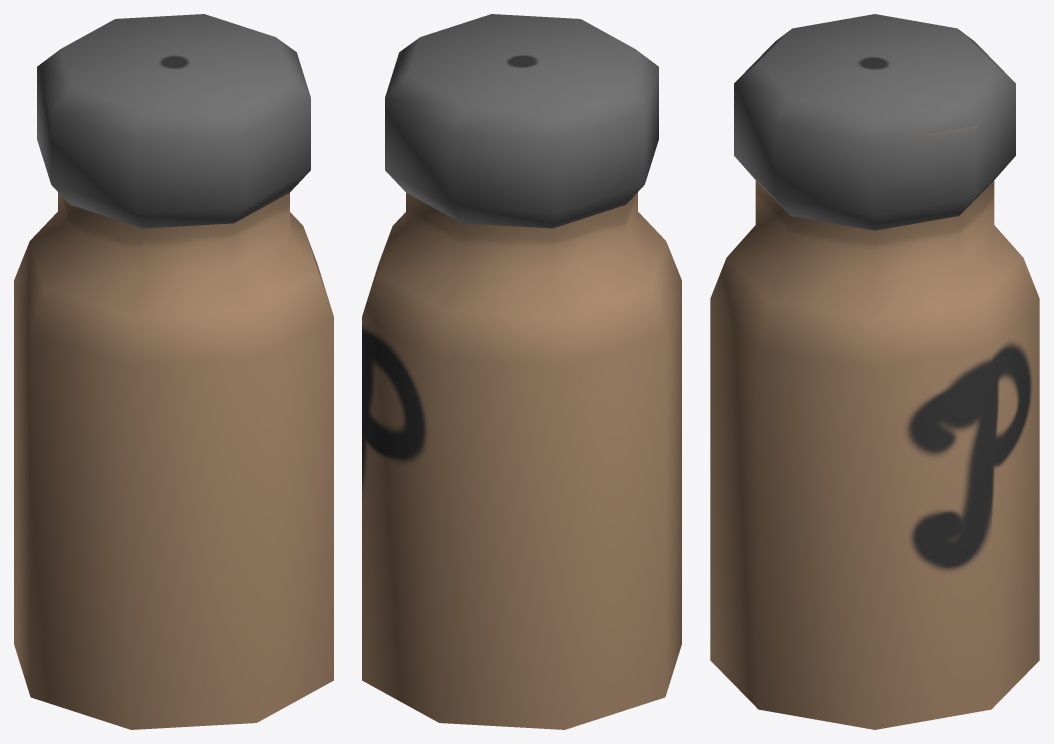
File: P_SaltPepperShaker.fbx
The picture shows the model from 3 angles, left to right: view 1: azimuth 30°, elevation 25°; view 2: azimuth 150°, elevation 25°; view 3: azimuth 270°, elevation 25°; orthographic projection.
Visible parts, largest first — view 1: P_SaltPepperShaker; view 2: P_SaltPepperShaker; view 3: P_SaltPepperShaker.
Part boxes in pixels (x1,y1,x2,y2): P_SaltPepperShaker: (14,14,333,729); P_SaltPepperShaker: (362,14,681,729); P_SaltPepperShaker: (710,14,1039,729).
Bounding box in the file's own units: 0.1 × 0.2 × 0.1.
1 material, 1 textured.
